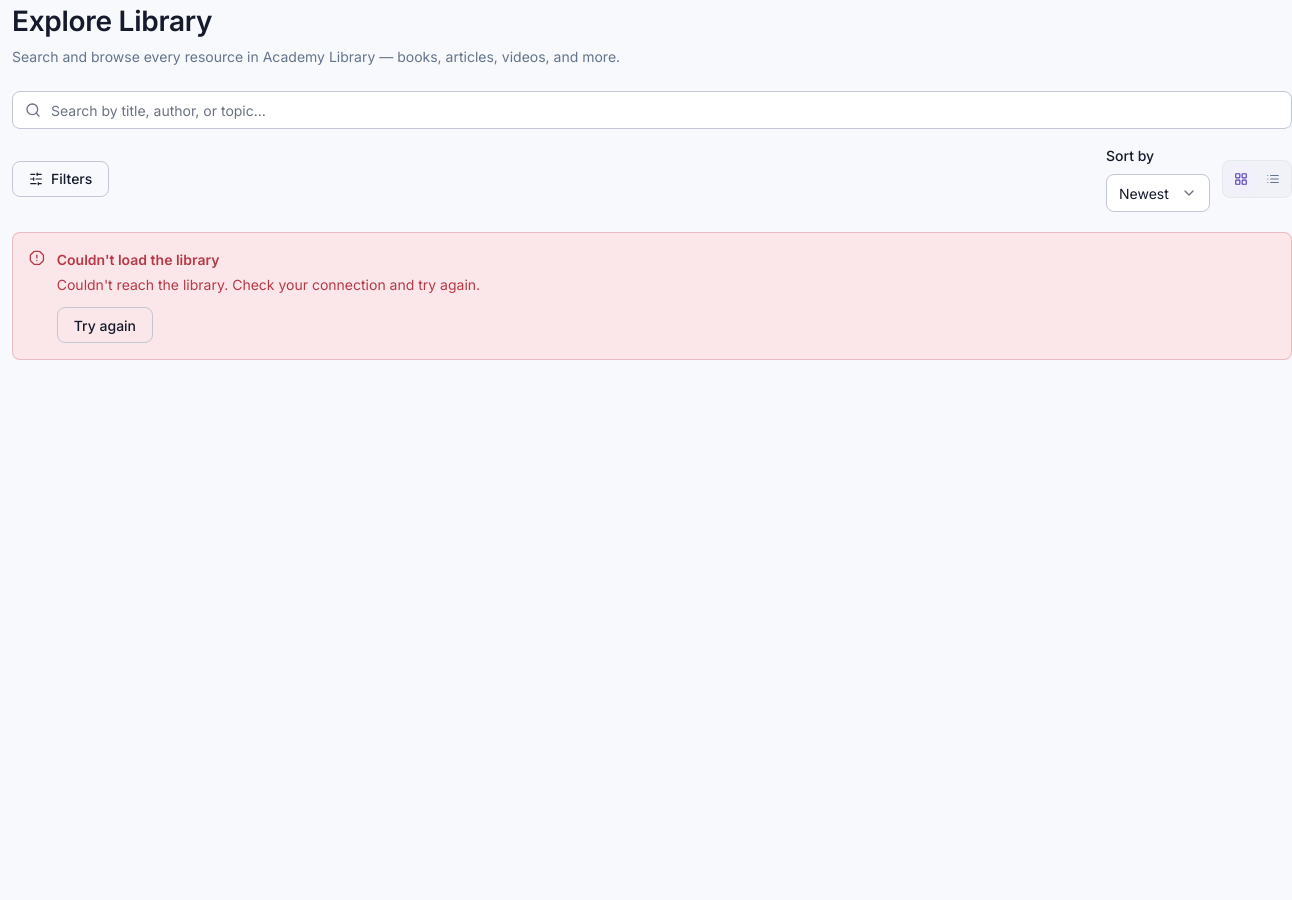
it: LibraryPage › shows an error state with a working retry action
Expected: the text "Couldn't load the library" is shown, top-left (57, 251), bottom-right (220, 268)
Step 1. Click the button "Try again" → [105, 325], box top-left (57, 307), bottom-right (153, 343)
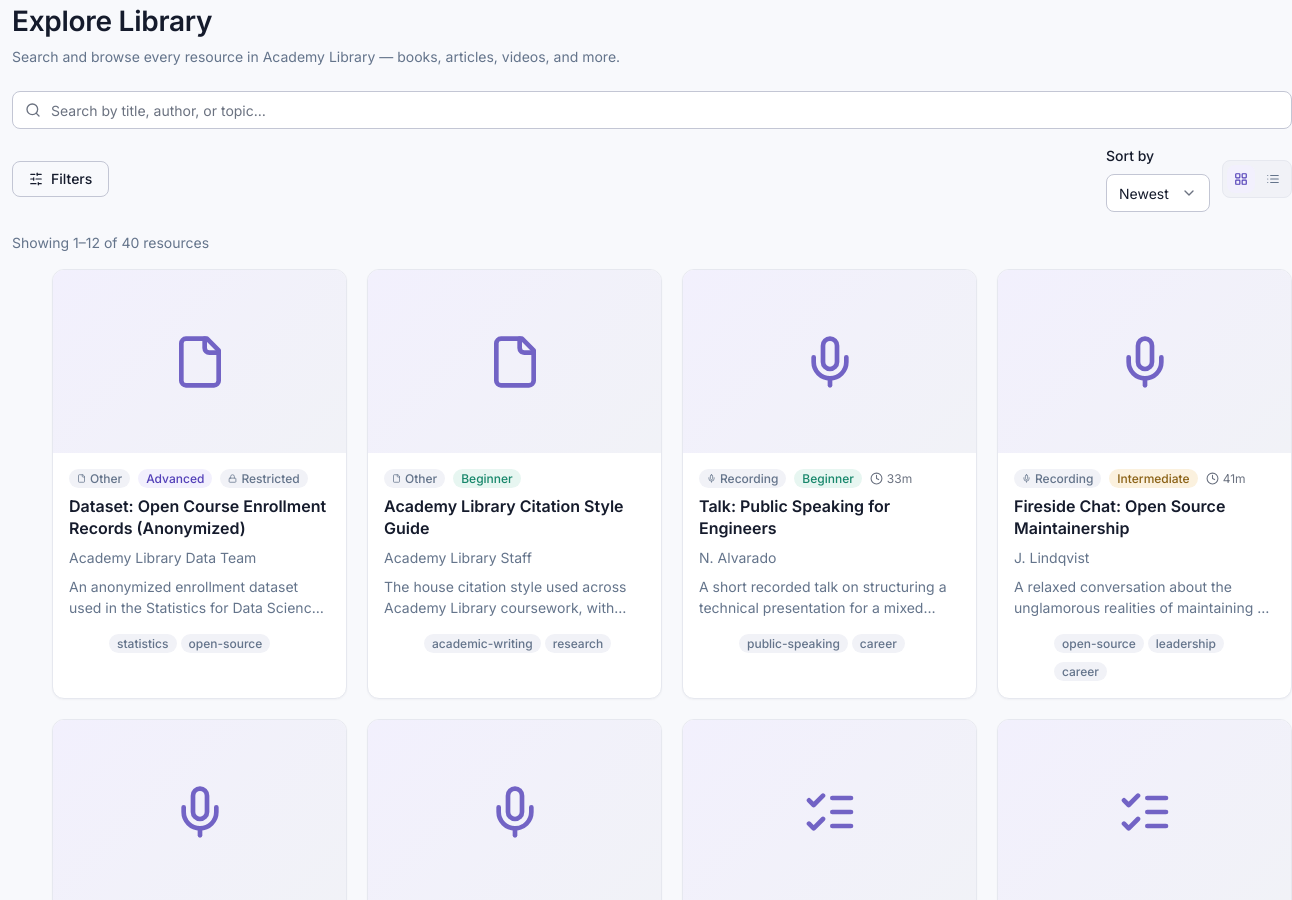
Now the text "Showing 1–12 of 40 resources" is shown, box top-left (12, 234), bottom-right (209, 251)
